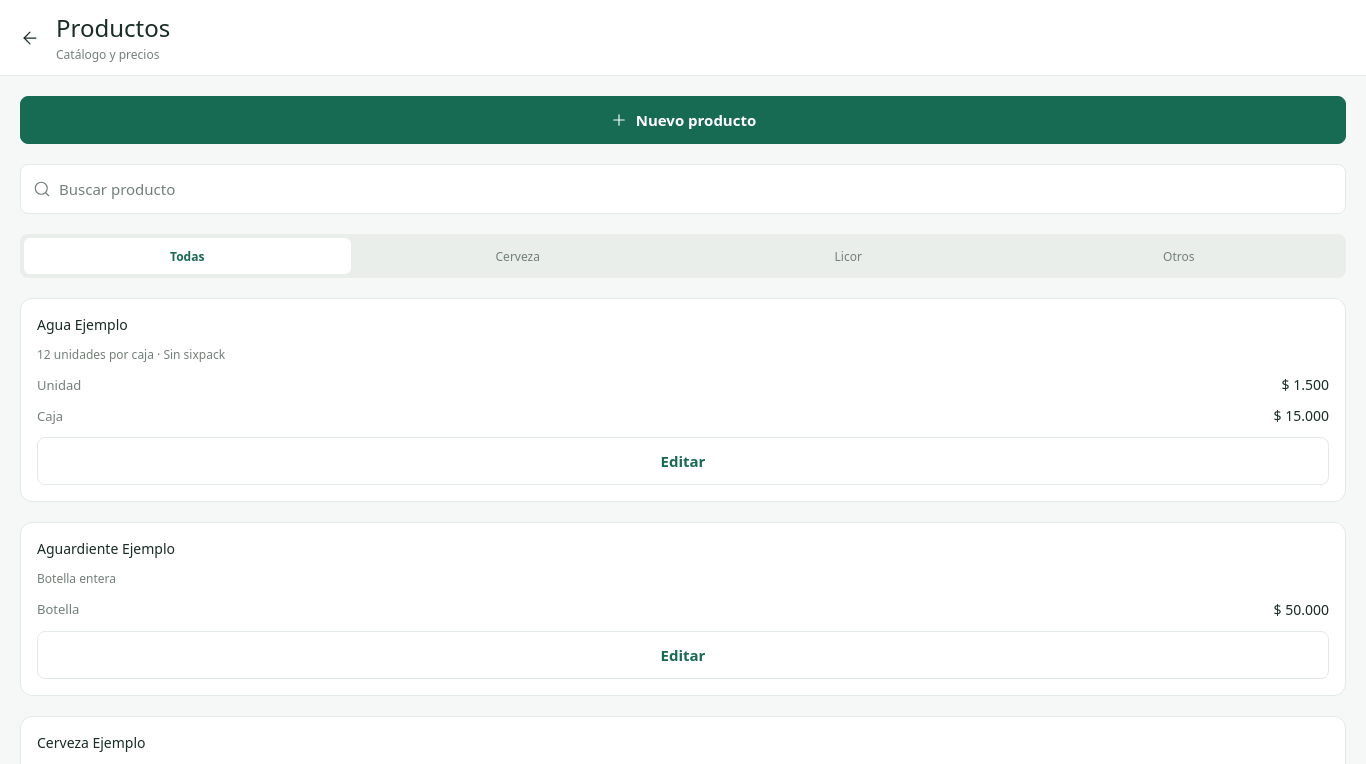
it: Productos › el licor se muestra por botella, sin caja, y se puede filtrar por categoría
expect the text "Cerveza Ejemplo" is shown: met, box [37,733,146,752]
Click the radio button labelled "Licor". click: {"x": 848, "y": 256}
box: [685,238,1012,274]
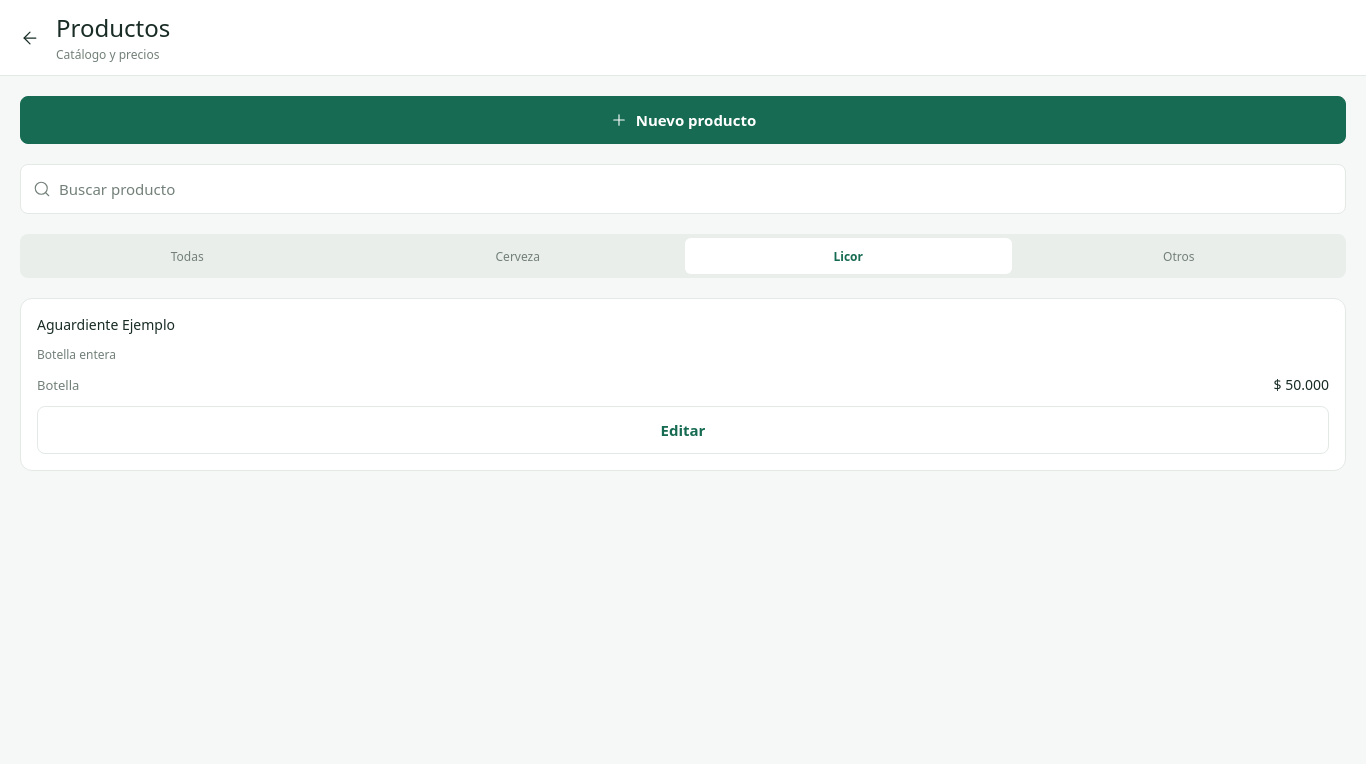
expect the element "Aguardiente Ejemplo" shows "Botella entera": met, box [37,346,116,363]
expect the text "Cerveza Ejemplo" is gone: met
expect the text "Aguardiente Ejemplo" no longer shows "caja": met
